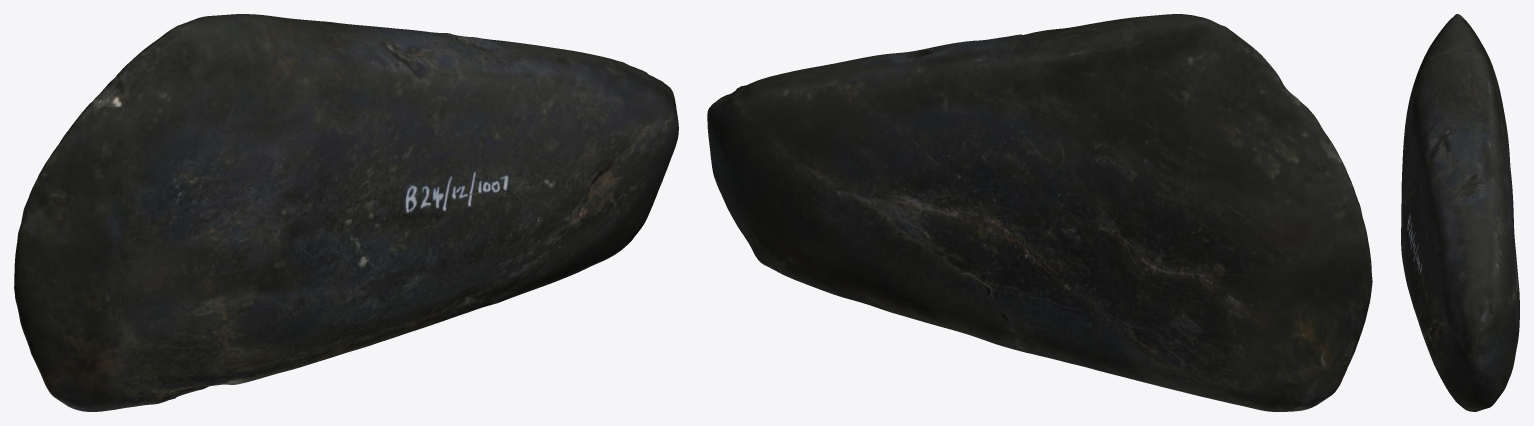
Rendered from kapak-batu-manchester.glb.
The picture shows the model from 3 angles, left to right: view 1: azimuth 30°, elevation 25°; view 2: azimuth 150°, elevation 25°; view 3: azimuth 270°, elevation 25°; orthographic projection. The views are drawn at different scales.
Bounding box in the file's own units: 24.83 × 13.23 × 5.39.
Materials: 1 (1 with a texture image).
